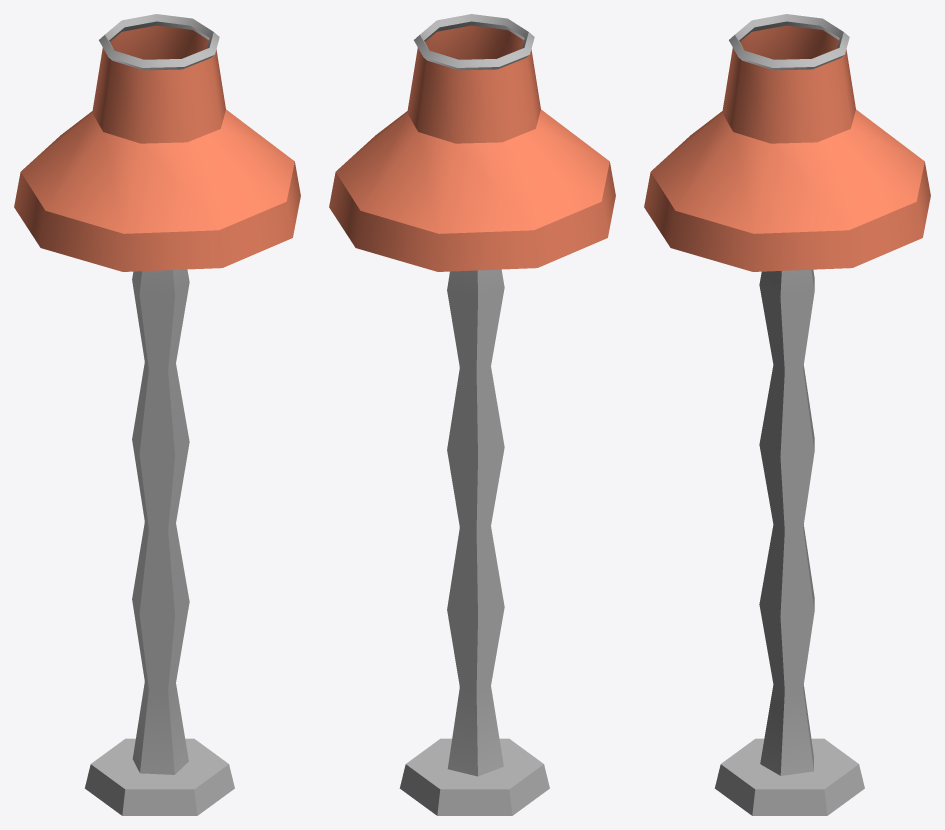
File: Lamp_M_03.fbx
3 renders of one model, left to right at view 1: azimuth 30°, elevation 25°; view 2: azimuth 150°, elevation 25°; view 3: azimuth 270°, elevation 25°, orthographic.
Parts seen in each view (by area): view 1: Lamp_M_03; view 2: Lamp_M_03; view 3: Lamp_M_03.
Boxes of the visible parts, x1,y1,x2,y2 form: Lamp_M_03: (14, 14, 300, 815); Lamp_M_03: (329, 14, 615, 815); Lamp_M_03: (644, 14, 930, 815).
Size of the model in its own units: 62.5 by 180 by 62.42.
1 material, 1 textured.
